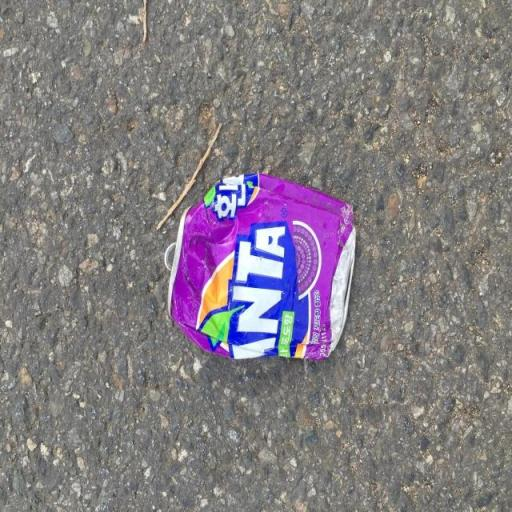metal: (166, 152, 376, 375)
